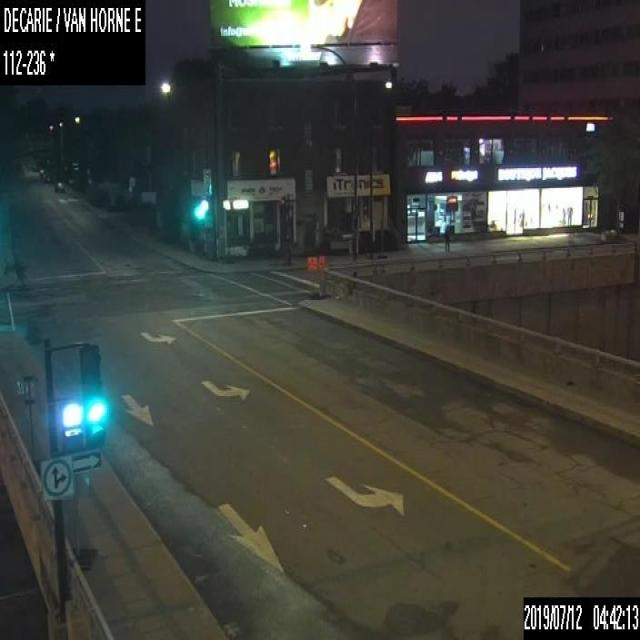construction: (68, 470, 98, 568), (19, 371, 46, 470), (305, 255, 317, 298), (317, 254, 328, 298)
pedestrian: (444, 227, 451, 252)
vehicle: (54, 180, 64, 192)
